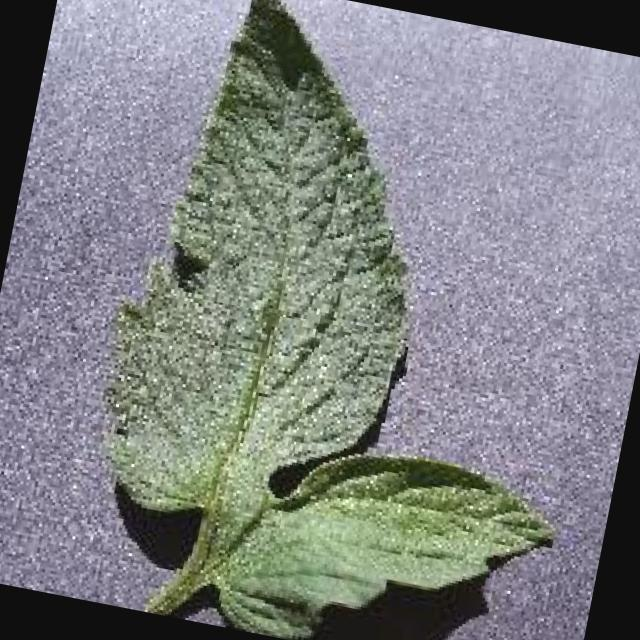healthy: (118, 0, 558, 640)
